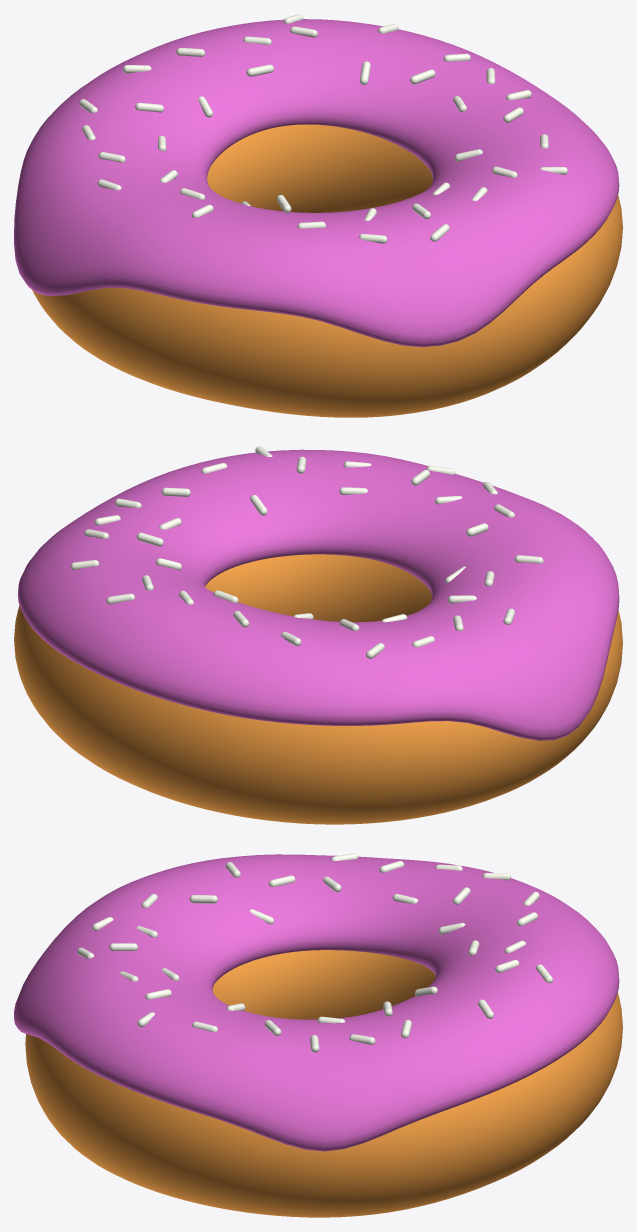
Rendered from donut2.fbx.
3 renders of one model, top to bottom at view 1: azimuth 30°, elevation 25°; view 2: azimuth 150°, elevation 25°; view 3: azimuth 270°, elevation 25°, orthographic.
Parts seen in each view (by area): view 1: Torus.001, Torus; view 2: Torus.001, Torus; view 3: Torus.001, Torus.
Part boxes in pixels (x1,y1,x2,y2): Torus.001: (14,19,619,347); Torus: (32,124,622,417); Torus.001: (18,449,619,740); Torus: (14,554,622,824); Torus.001: (14,854,619,1151); Torus: (25,950,622,1217).
Bounding box in the file's own units: 250 × 92.57 × 246.
